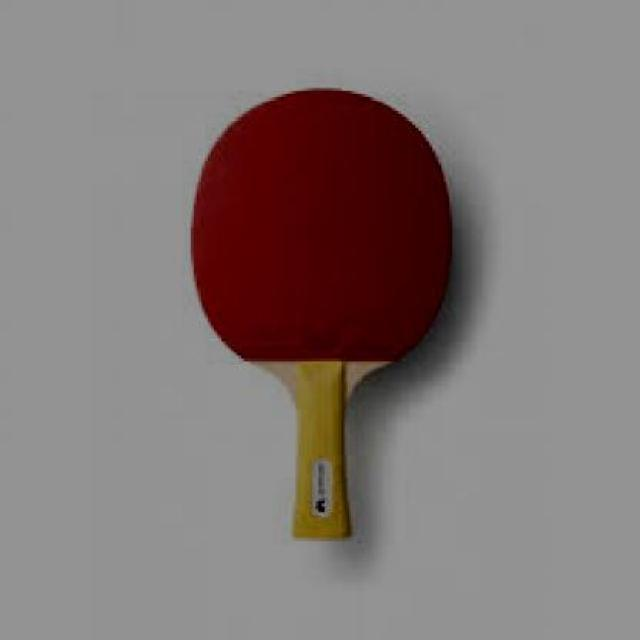table_tennis_racket: (191, 89, 454, 542)
